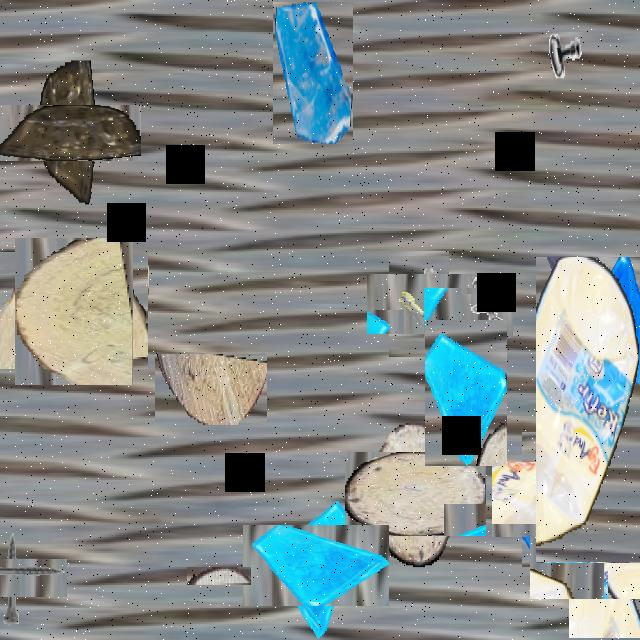glass: (259, 508, 373, 622), (425, 320, 507, 466), (273, 2, 353, 144), (507, 447, 613, 552), (549, 508, 640, 618)
metal: (378, 262, 460, 346), (433, 278, 503, 348), (0, 544, 52, 611), (545, 16, 585, 87)
plastic: (536, 257, 640, 564), (18, 83, 118, 184)
wood: (8, 245, 140, 377), (358, 438, 472, 550), (155, 354, 267, 425), (187, 567, 251, 585)
